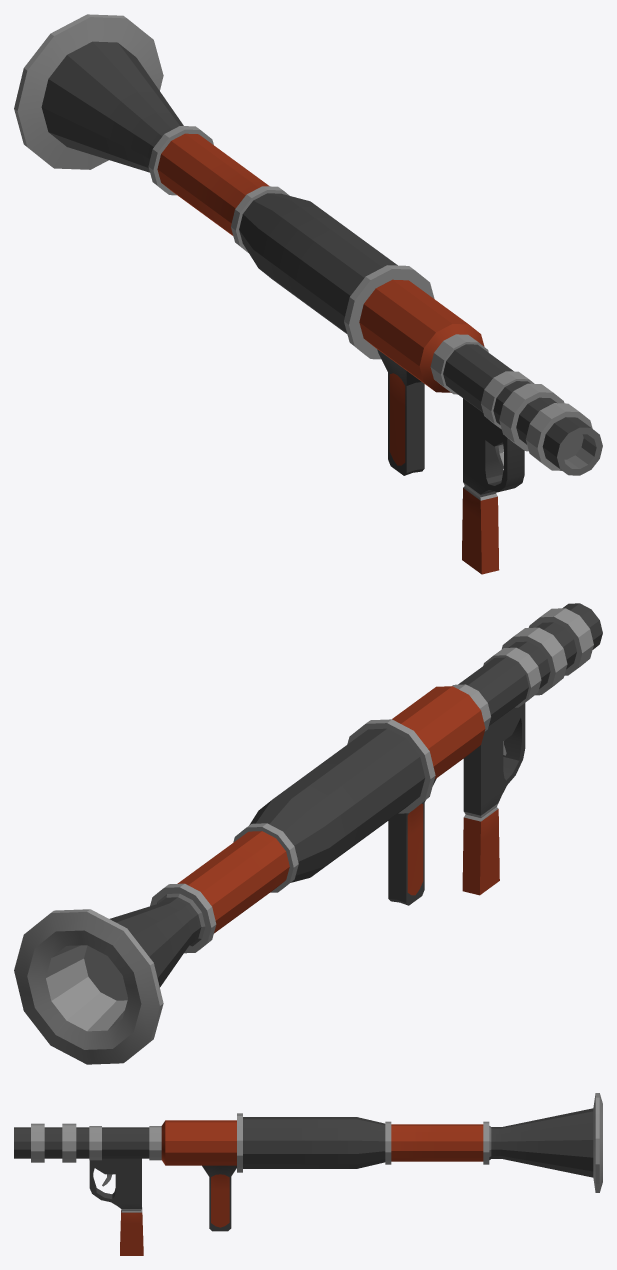
Rendered from rocket_launcher_1.fbx.
3 renders of one model, top to bottom at view 1: azimuth 30°, elevation 25°; view 2: azimuth 150°, elevation 25°; view 3: azimuth 270°, elevation 25°, orthographic. The views are drawn at different scales.
Parts seen in each view (by area): view 1: rocket_launcher_1; view 2: rocket_launcher_1; view 3: rocket_launcher_1.
Part boxes in pixels (x1,y1,x2,y2): rocket_launcher_1: [14, 14, 602, 574]; rocket_launcher_1: [14, 603, 602, 1064]; rocket_launcher_1: [14, 1093, 602, 1255].
Size of the model in its own units: 69.99 by 120 by 411.
Materials: 1 (1 with a texture image).
